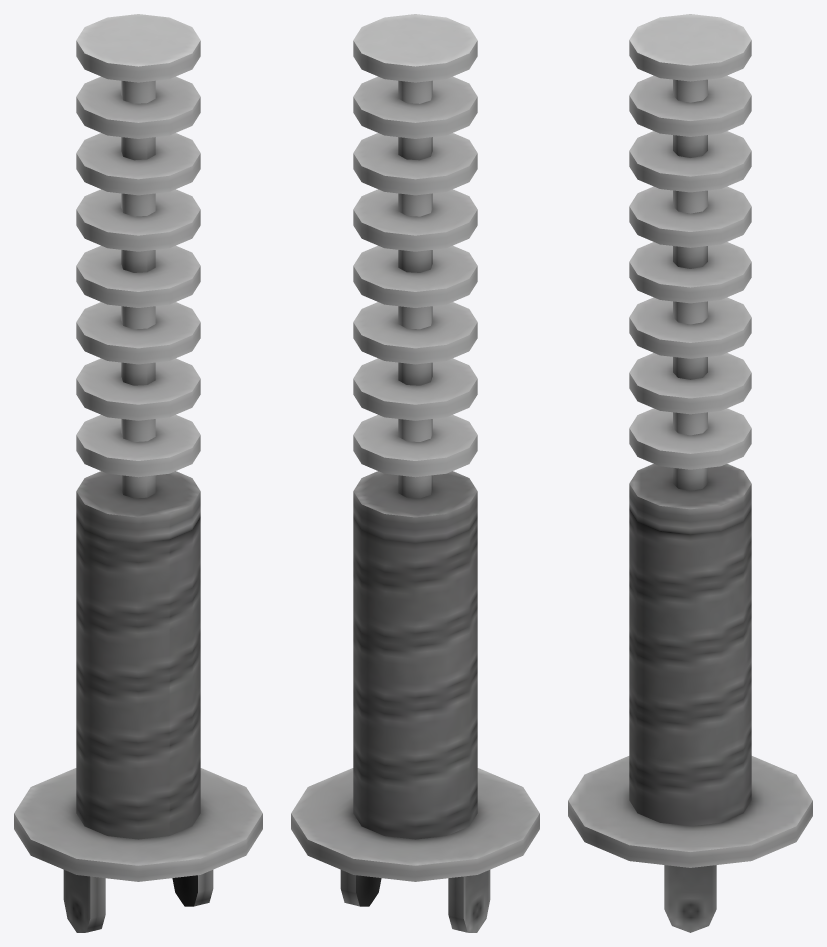
The model's file is ye8_high_gain_antenna_srf_1.obj.
3 renders of one model, left to right at view 1: azimuth 30°, elevation 25°; view 2: azimuth 150°, elevation 25°; view 3: azimuth 270°, elevation 25°, orthographic.
Parts seen in each view (by area): view 1: 1; view 2: 1; view 3: 1.
Part boxes in pixels (<box>): 1: <box>14,14,262,932</box>; 1: <box>291,14,539,932</box>; 1: <box>568,14,812,932</box>.
Size of the model in its own units: 0.175 by 0.6812 by 0.175.
Materials: 1 (1 with a texture image).
